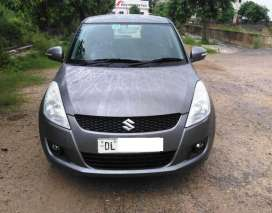license_plate: (97, 138, 164, 152)
